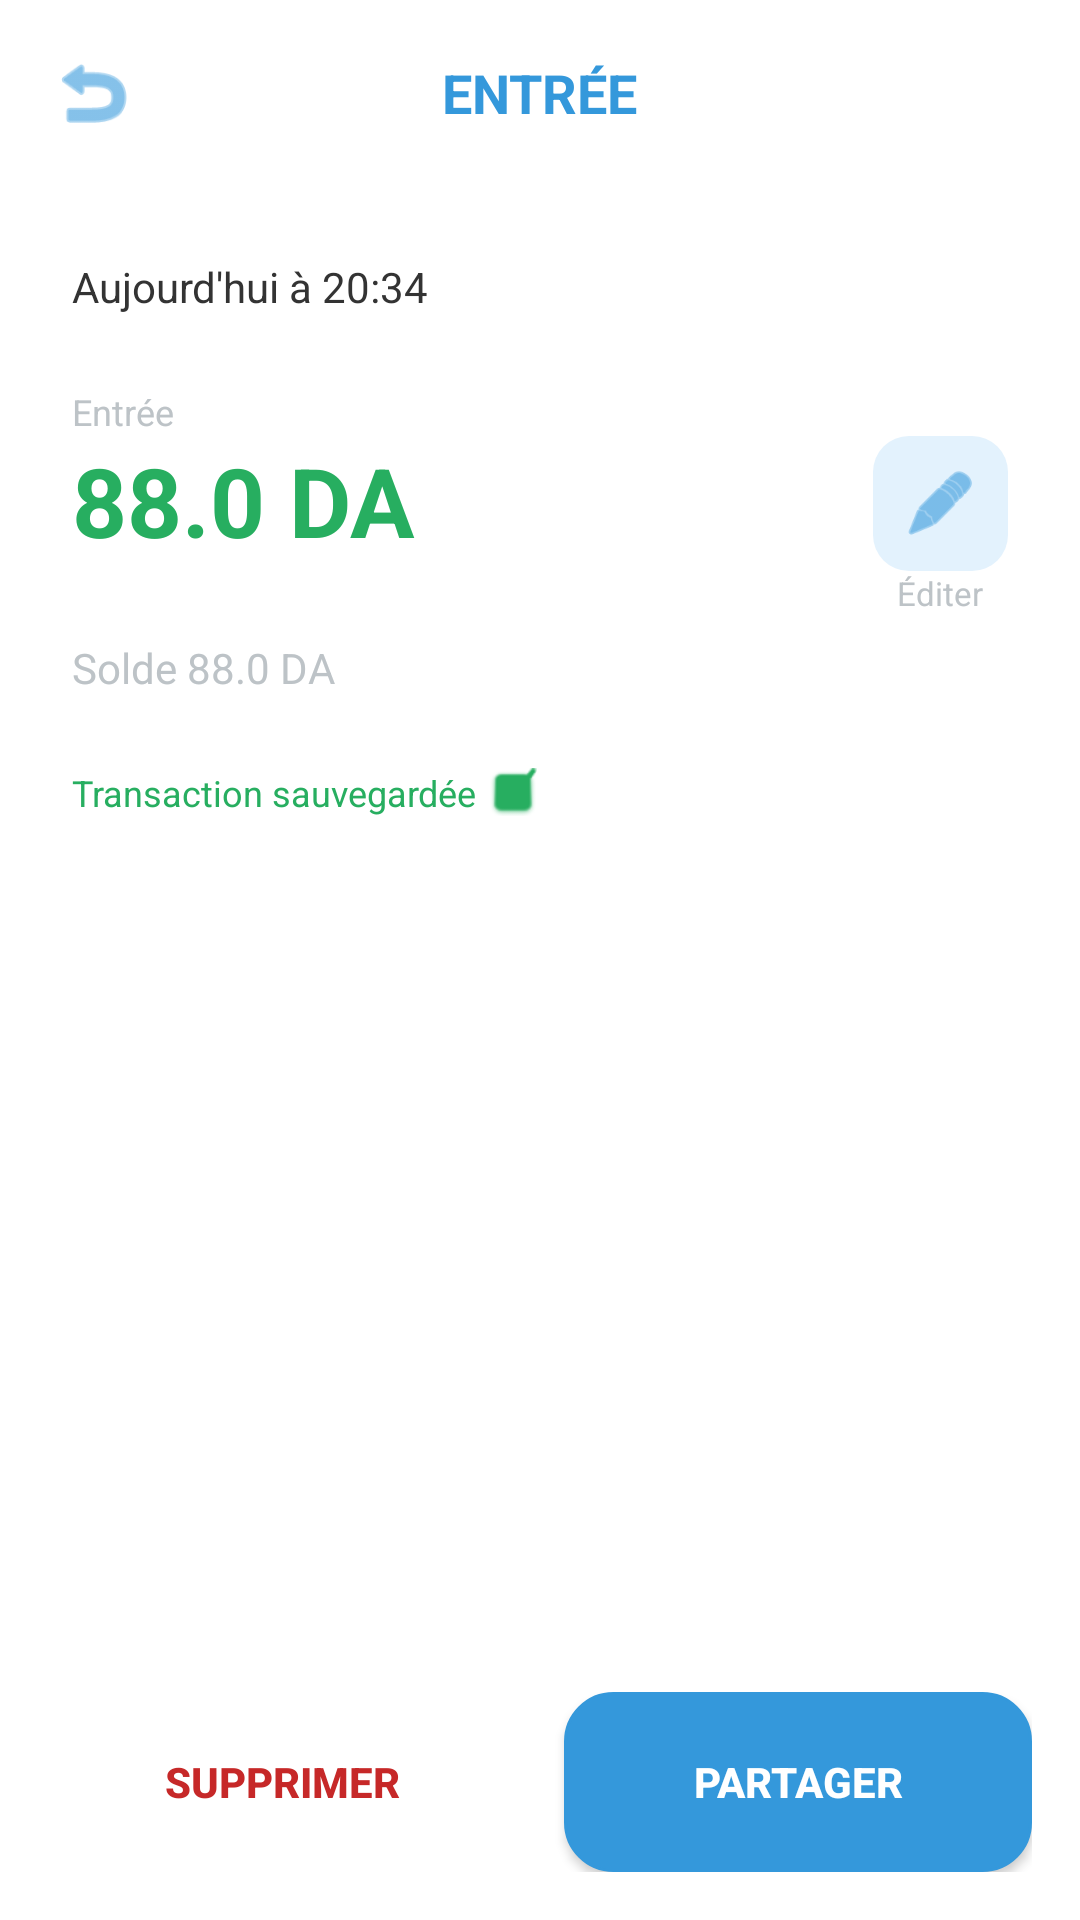

Point at icon controls on the screen. Image size 1080*1920, points as (x=x, y=y).
revert: (x=94, y=93)
